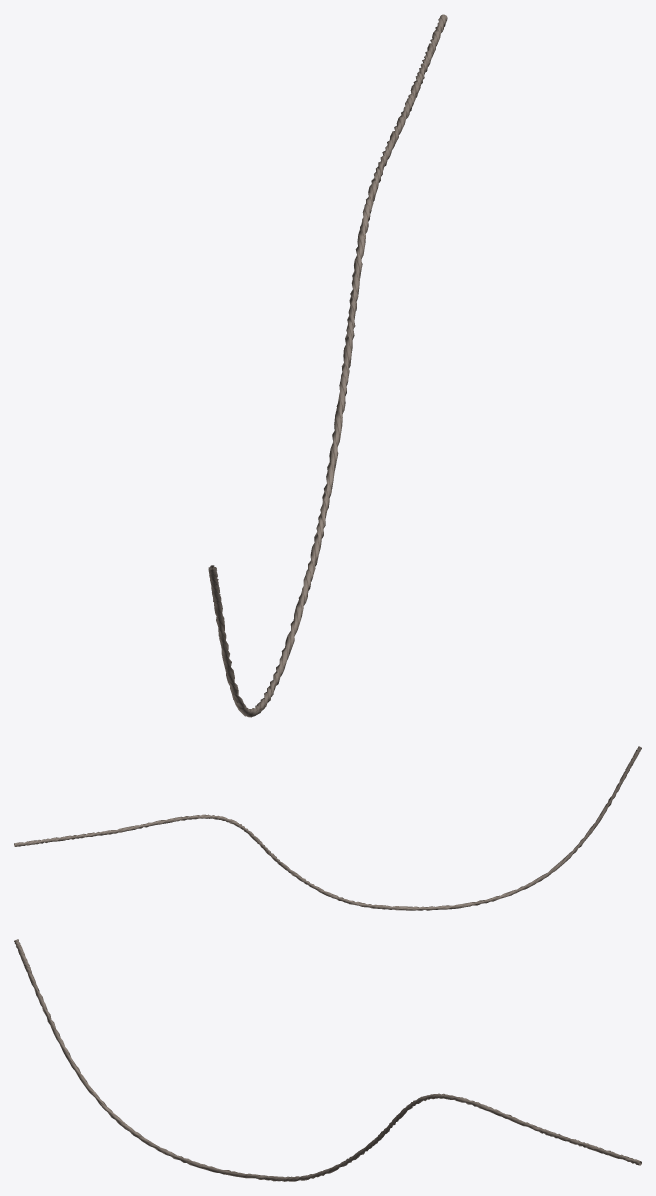
The model's file is SM_RopeSplineMesh_Splines_3.fbx.
The picture shows the model from 3 angles, top to bottom: view 1: azimuth 30°, elevation 25°; view 2: azimuth 150°, elevation 25°; view 3: azimuth 270°, elevation 25°; orthographic projection. The views are drawn at different scales.
Visible parts, largest first — view 1: SM_RopeSplineMesh_Splines_3; view 2: SM_RopeSplineMesh_Splines_3; view 3: SM_RopeSplineMesh_Splines_3.
Part boxes in pixels (box(x1,y1,x2,y2)): SM_RopeSplineMesh_Splines_3: box(208, 14, 447, 717); SM_RopeSplineMesh_Splines_3: box(14, 746, 641, 910); SM_RopeSplineMesh_Splines_3: box(14, 939, 641, 1181).
Size of the model in its own units: 245 by 292 by 84.27.
